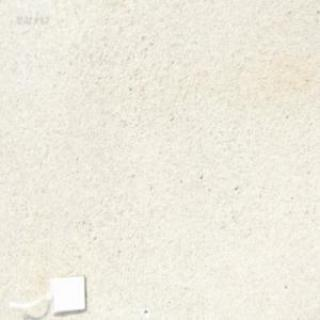LuggageTagtrack_idkeyframe: (7, 272, 86, 314)
